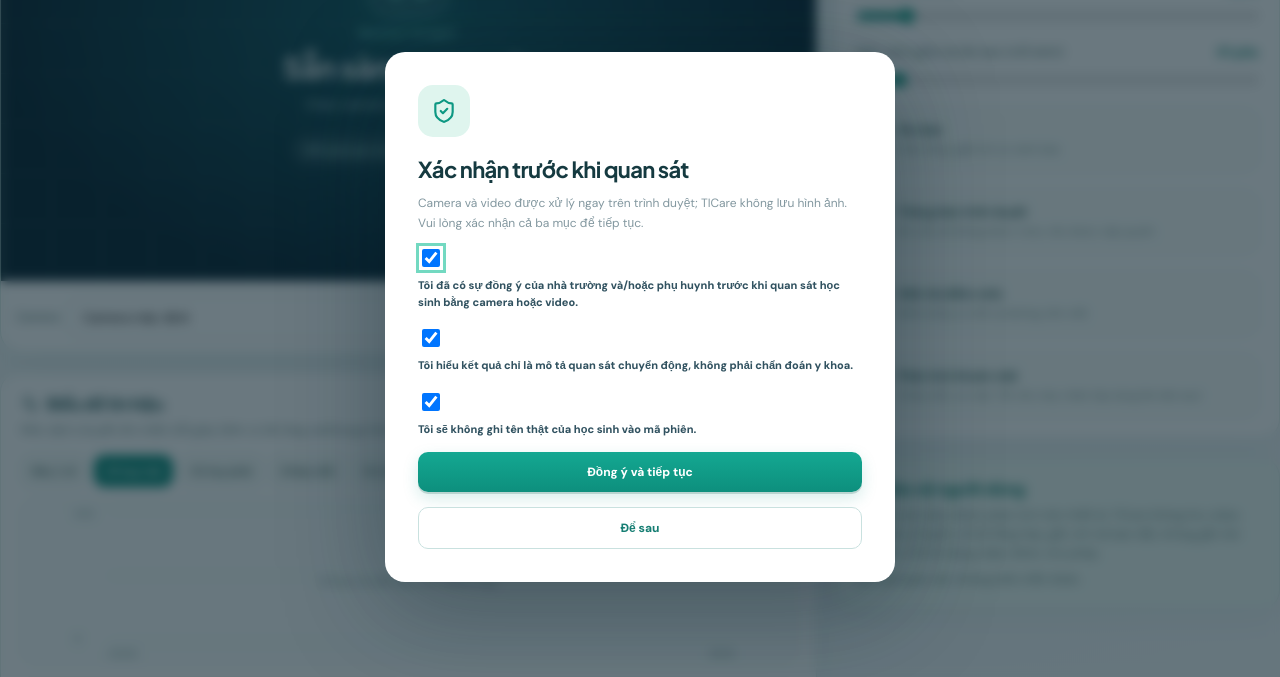
Test: Motion: consent gate (T6.4) › does not call getUserMedia before consent; after confirming all 3 items it proceeds and remembers
This screenshot has width=1280, height=677.
Earlier steps of the test are not shown.
(page scrolled)
Click the button "Đồng ý và tiếp tục" at x=640, y=472, box x1=418 y1=452 x2=862 y2=492
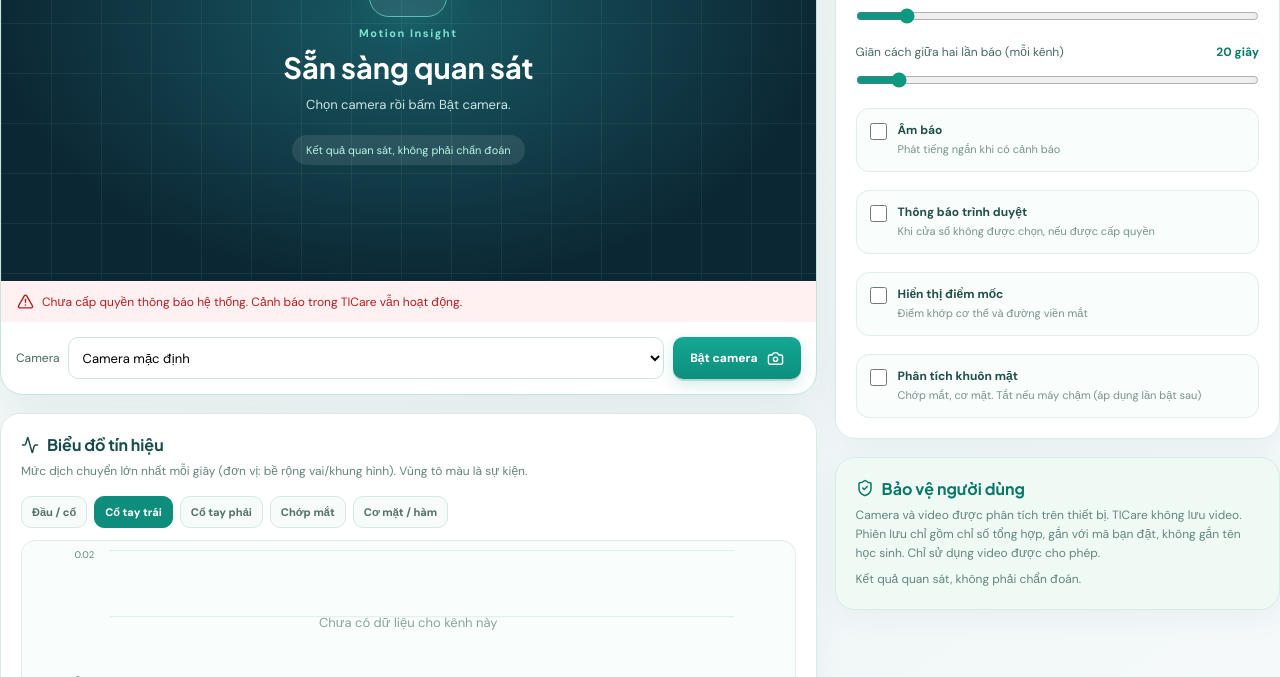
Now the dialog is gone
